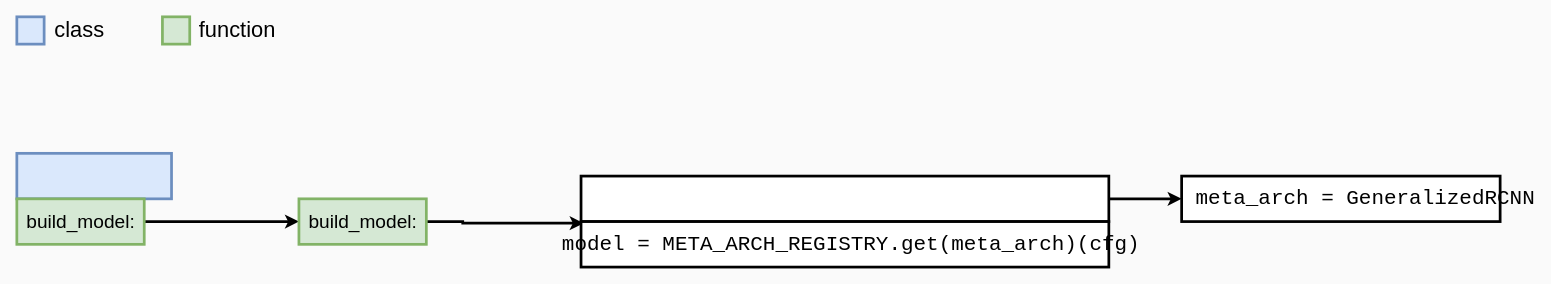
Image size: 1551x284. Some labels were removed from this diagram. Each missing label, with the box of its shape:
DefaultTrainer: (15, 152, 172, 200)
meta_arch = cfg.MODEL.META_ARCHITECTURE: (579, 174, 1110, 222)
